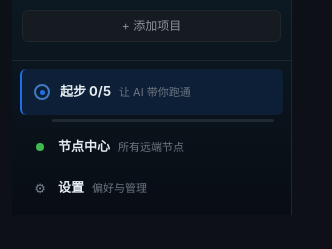
SidebarView › 主界面添加项目后进入和设置页一致的配置初始化流程
Step 1. Click the button with test id "sidebar-add-project" → (152, 26), box [22,10,281,42]
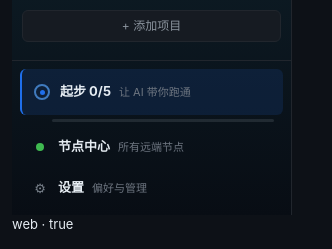
Expected: the text with test id "config-editor" reads "web · true", [12,216,73,232]
